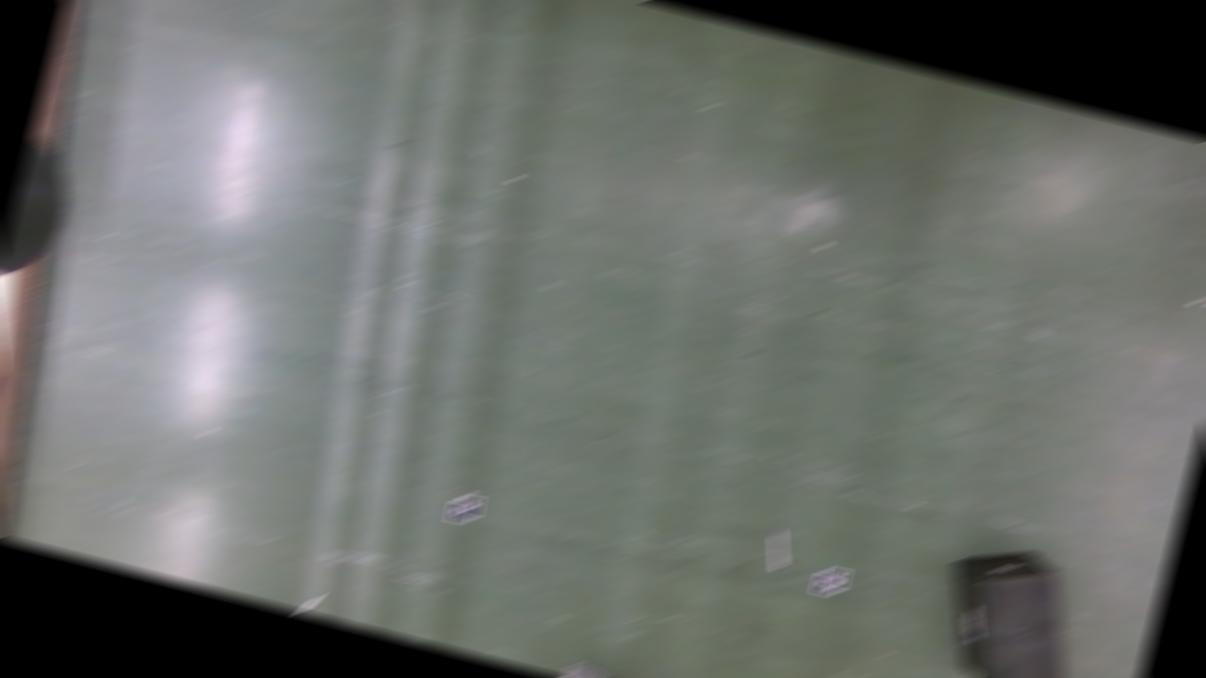probes: (762, 530, 792, 568), (291, 592, 321, 615)
rako: (925, 533, 1094, 677), (557, 662, 640, 677)
